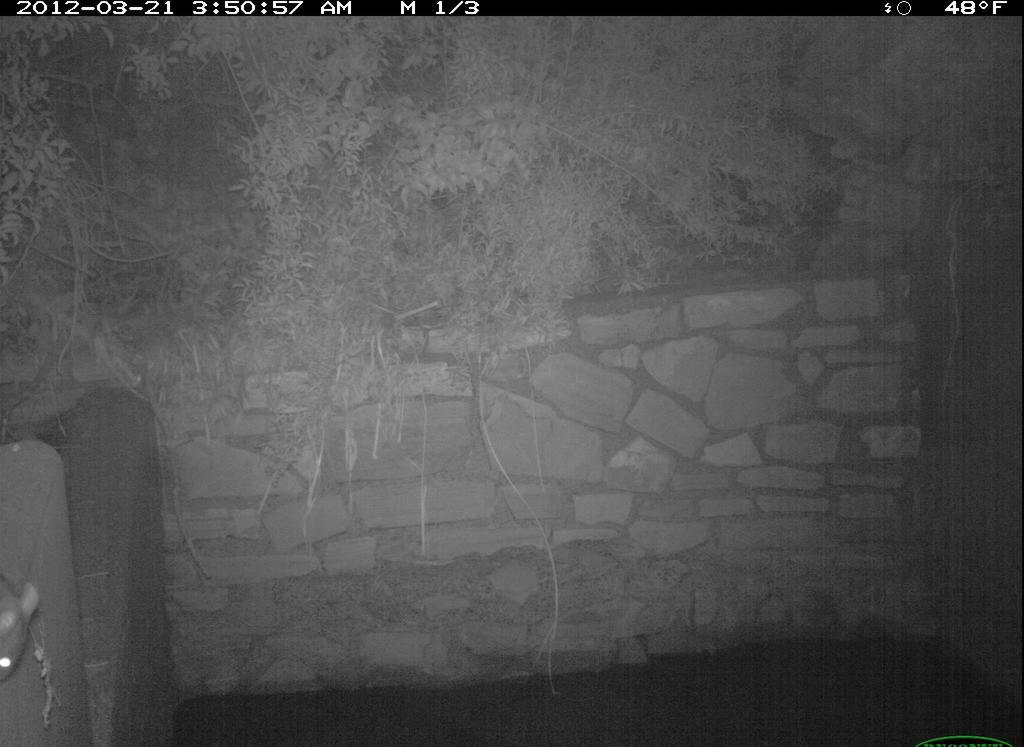rodent: (1, 565, 44, 688)
